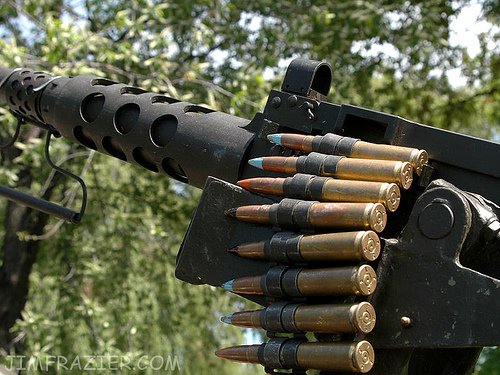rifle: (12, 37, 485, 356)
